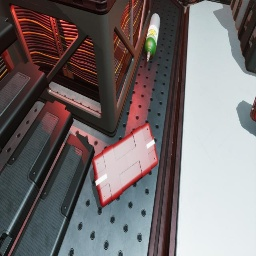0: (144, 13, 160, 62)
FirstAidBox ,: (92, 123, 158, 207), (250, 96, 256, 122)
